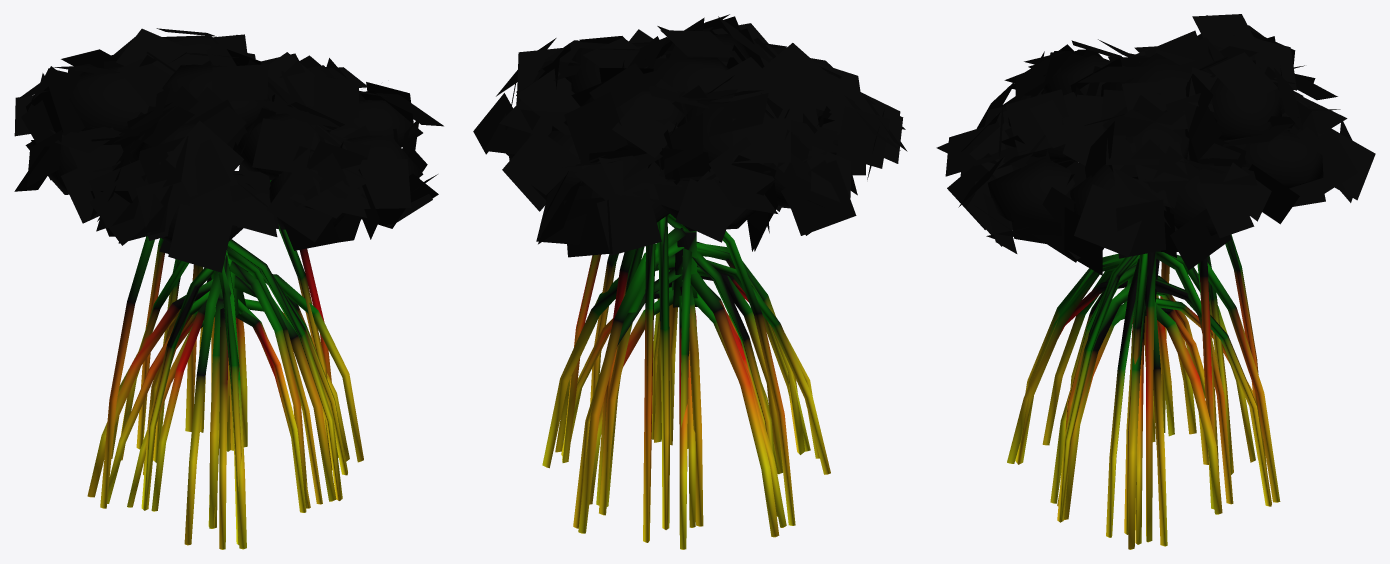
Rendered from mangrove_d_lo.glb.
3 views of the same model, side by side, from view 1: azimuth 30°, elevation 25°; view 2: azimuth 150°, elevation 25°; view 3: azimuth 270°, elevation 25° (orthographic). The views are drawn at different scales.
Visible parts, largest first — view 1: mangrove_d_lo; view 2: mangrove_d_lo; view 3: mangrove_d_lo.
Boxes of the visible parts, bbox=[...] form: mangrove_d_lo: bbox=[14, 28, 443, 549]; mangrove_d_lo: bbox=[473, 14, 907, 549]; mangrove_d_lo: bbox=[936, 14, 1375, 549].
Size of the model in its own units: 9 by 9.8 by 9.15.
